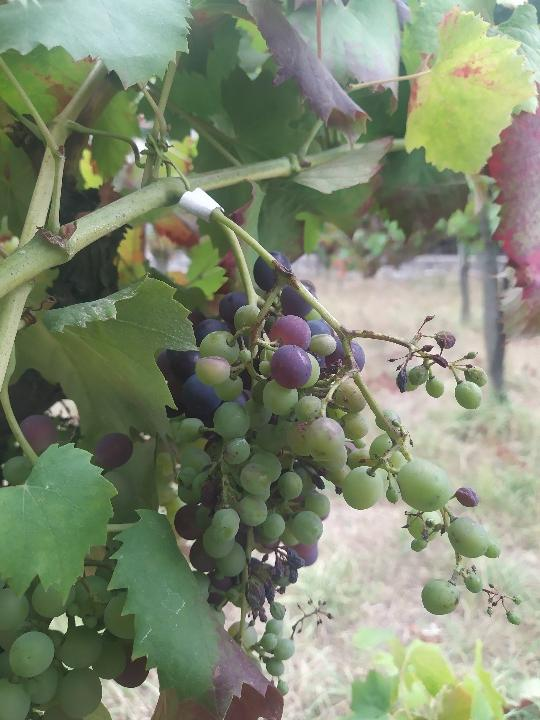grape: (169, 248, 524, 679)
